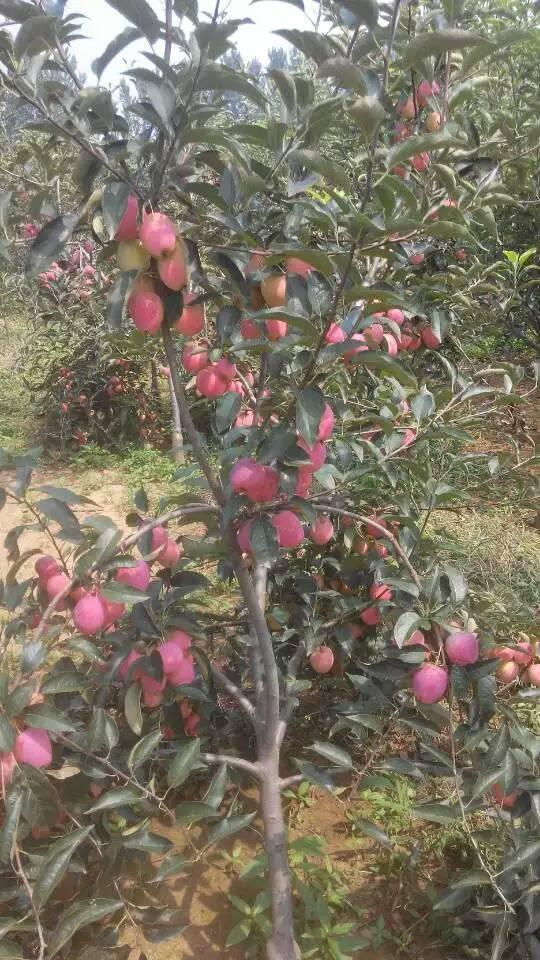apple: (12, 725, 54, 773), (138, 211, 178, 259), (410, 663, 448, 704), (129, 290, 164, 333), (74, 595, 109, 636), (270, 509, 303, 550), (445, 630, 481, 667), (229, 460, 265, 496), (196, 364, 230, 399), (182, 338, 211, 376), (174, 305, 205, 337), (307, 644, 334, 675), (307, 515, 334, 546)
